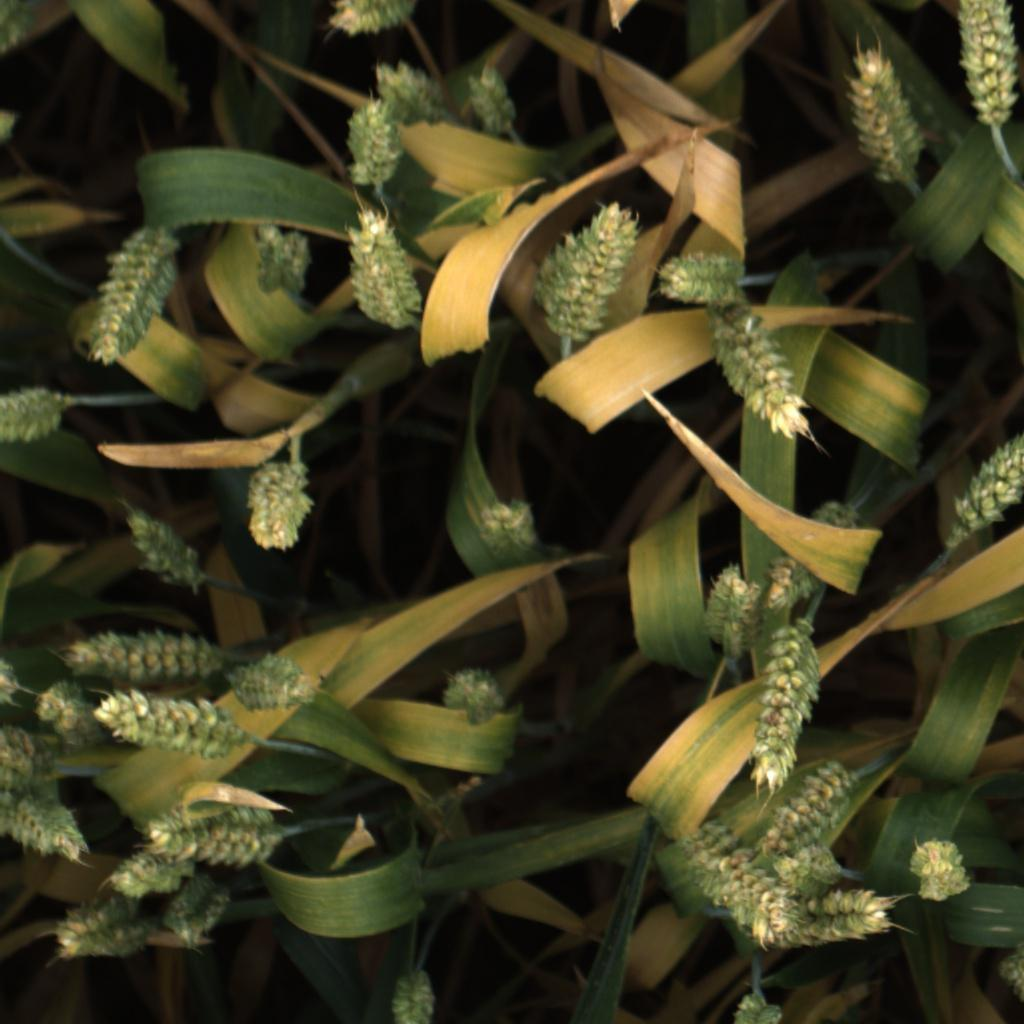0-0: (672, 832, 807, 951), (538, 199, 638, 340), (748, 615, 825, 798), (80, 227, 177, 366), (759, 494, 863, 622), (714, 317, 820, 442), (844, 44, 929, 191), (138, 792, 282, 871), (343, 202, 421, 341), (950, 0, 1024, 131), (948, 414, 1024, 541), (101, 692, 239, 761), (58, 626, 221, 678), (44, 895, 152, 968), (767, 760, 856, 848), (118, 501, 207, 588), (0, 792, 97, 866), (243, 463, 316, 554), (811, 883, 908, 951), (649, 250, 750, 315), (698, 557, 763, 651), (470, 494, 548, 567), (338, 99, 402, 187), (30, 682, 107, 754), (367, 53, 443, 125), (247, 219, 314, 293), (232, 655, 315, 714), (908, 835, 973, 907), (106, 842, 187, 899), (439, 662, 509, 726), (167, 872, 229, 944), (326, 0, 434, 40), (462, 62, 517, 139), (3, 383, 64, 450), (1, 725, 60, 791), (386, 959, 444, 1024), (770, 842, 841, 885), (733, 991, 784, 1024), (996, 939, 1024, 999), (0, 656, 18, 707)
